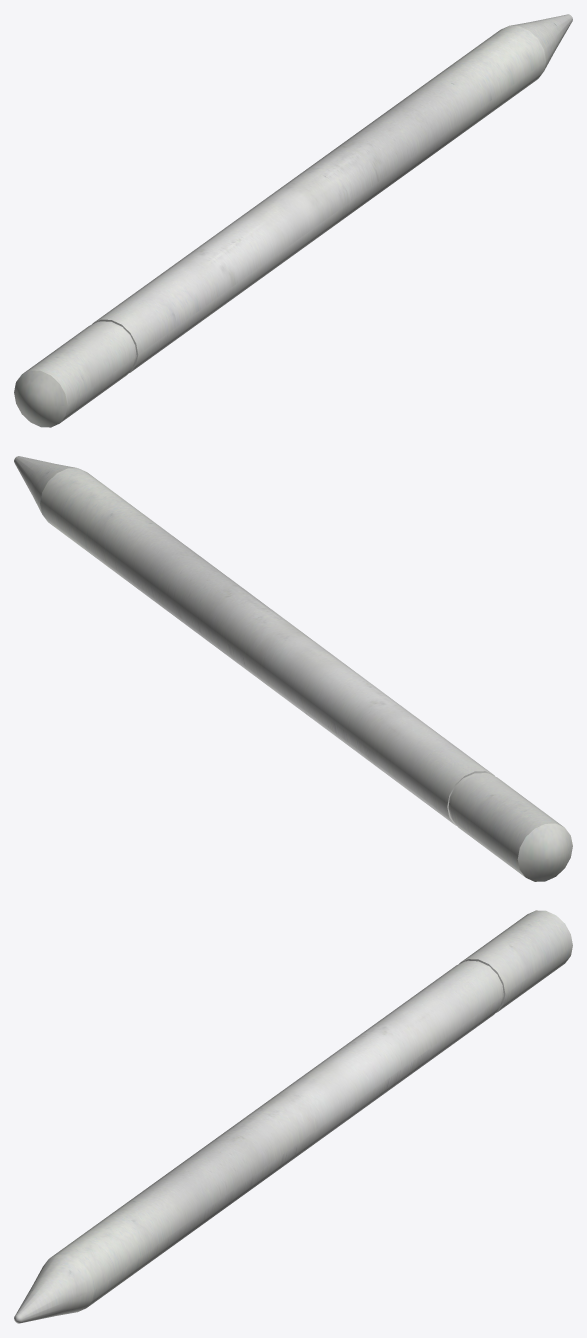
Rendered from Pen.fbx.
The picture shows the model from 3 angles, top to bottom: view 1: azimuth 90°, elevation 25°; view 2: azimuth 150°, elevation 25°; view 3: azimuth 270°, elevation 25°; orthographic projection. The views are drawn at different scales.
Visible parts, largest first — view 1: polySurface1110; view 2: polySurface1110; view 3: polySurface1110.
Boxes of the visible parts, x1,y1,x2,y2 form: polySurface1110: [14, 14, 572, 427]; polySurface1110: [14, 456, 572, 881]; polySurface1110: [14, 910, 572, 1323].
Size of the model in its own units: 0.1628 by 0.011 by 0.0989.
1 material, 1 textured.
